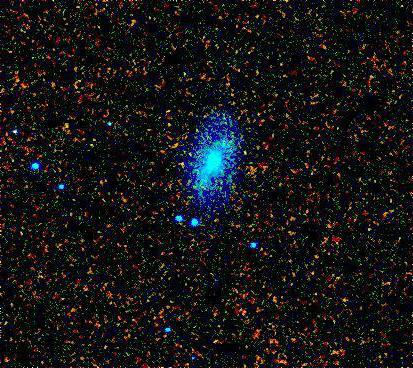star: (50, 110, 80, 140)
